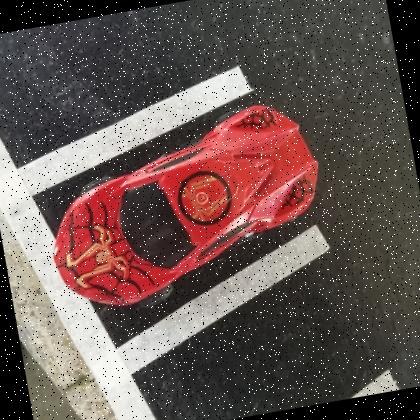Car: (52, 102, 319, 306)
